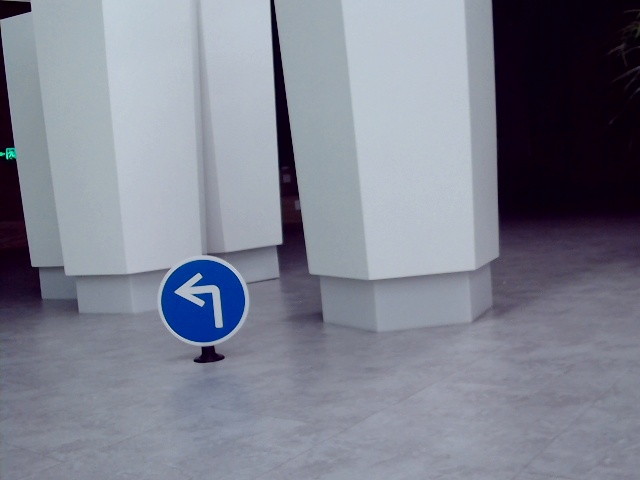turn_left: (172, 268, 224, 328)
